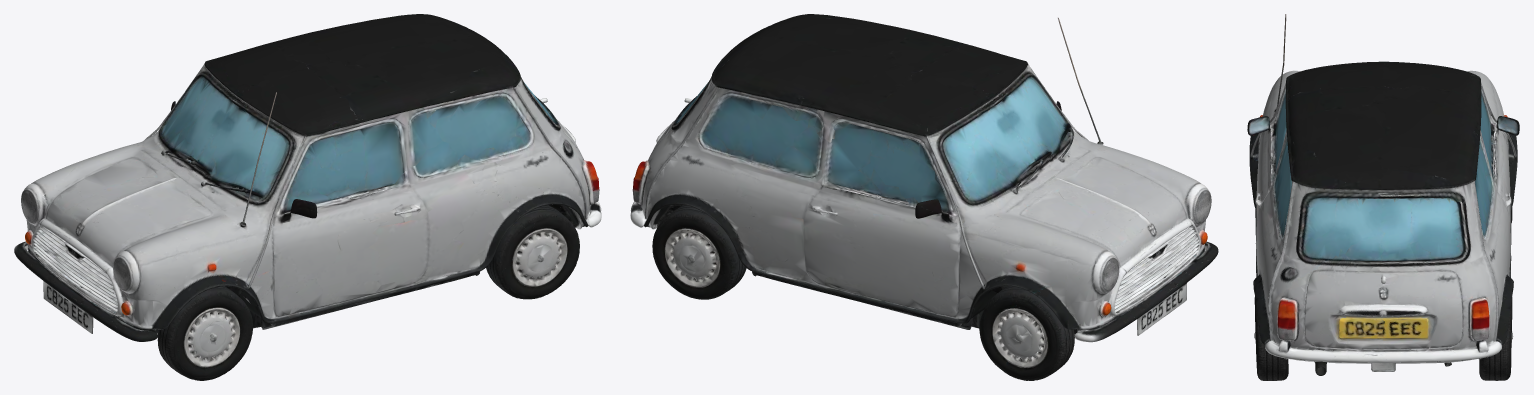
Rendered from mini-SHRINK.glb.
3 renders of one model, left to right at view 1: azimuth 30°, elevation 25°; view 2: azimuth 150°, elevation 25°; view 3: azimuth 270°, elevation 25°, orthographic. The views are drawn at different scales.
Visible parts, largest first — view 1: object 1, Wheel_FL, Wheel_RL; view 2: object 1, Wheel_FR, Wheel_RR; view 3: object 1, Wheel_RR, Wheel_RL.
Part boxes in pixels (x1,y1,x2,y2): object 1: (14,14,601,341); Wheel_FL: (157,286,252,380); Wheel_RL: (495,204,579,299); object 1: (630,14,1218,342); Wheel_FR: (979,286,1074,380); Wheel_RR: (652,204,736,299); object 1: (1247,14,1519,375); Wheel_RR: (1479,296,1513,380); Wheel_RL: (1254,295,1288,380).
Bounding box in the file's own units: 1.9 × 0.9533 × 0.9501.
Materials: 1 (1 with a texture image).
